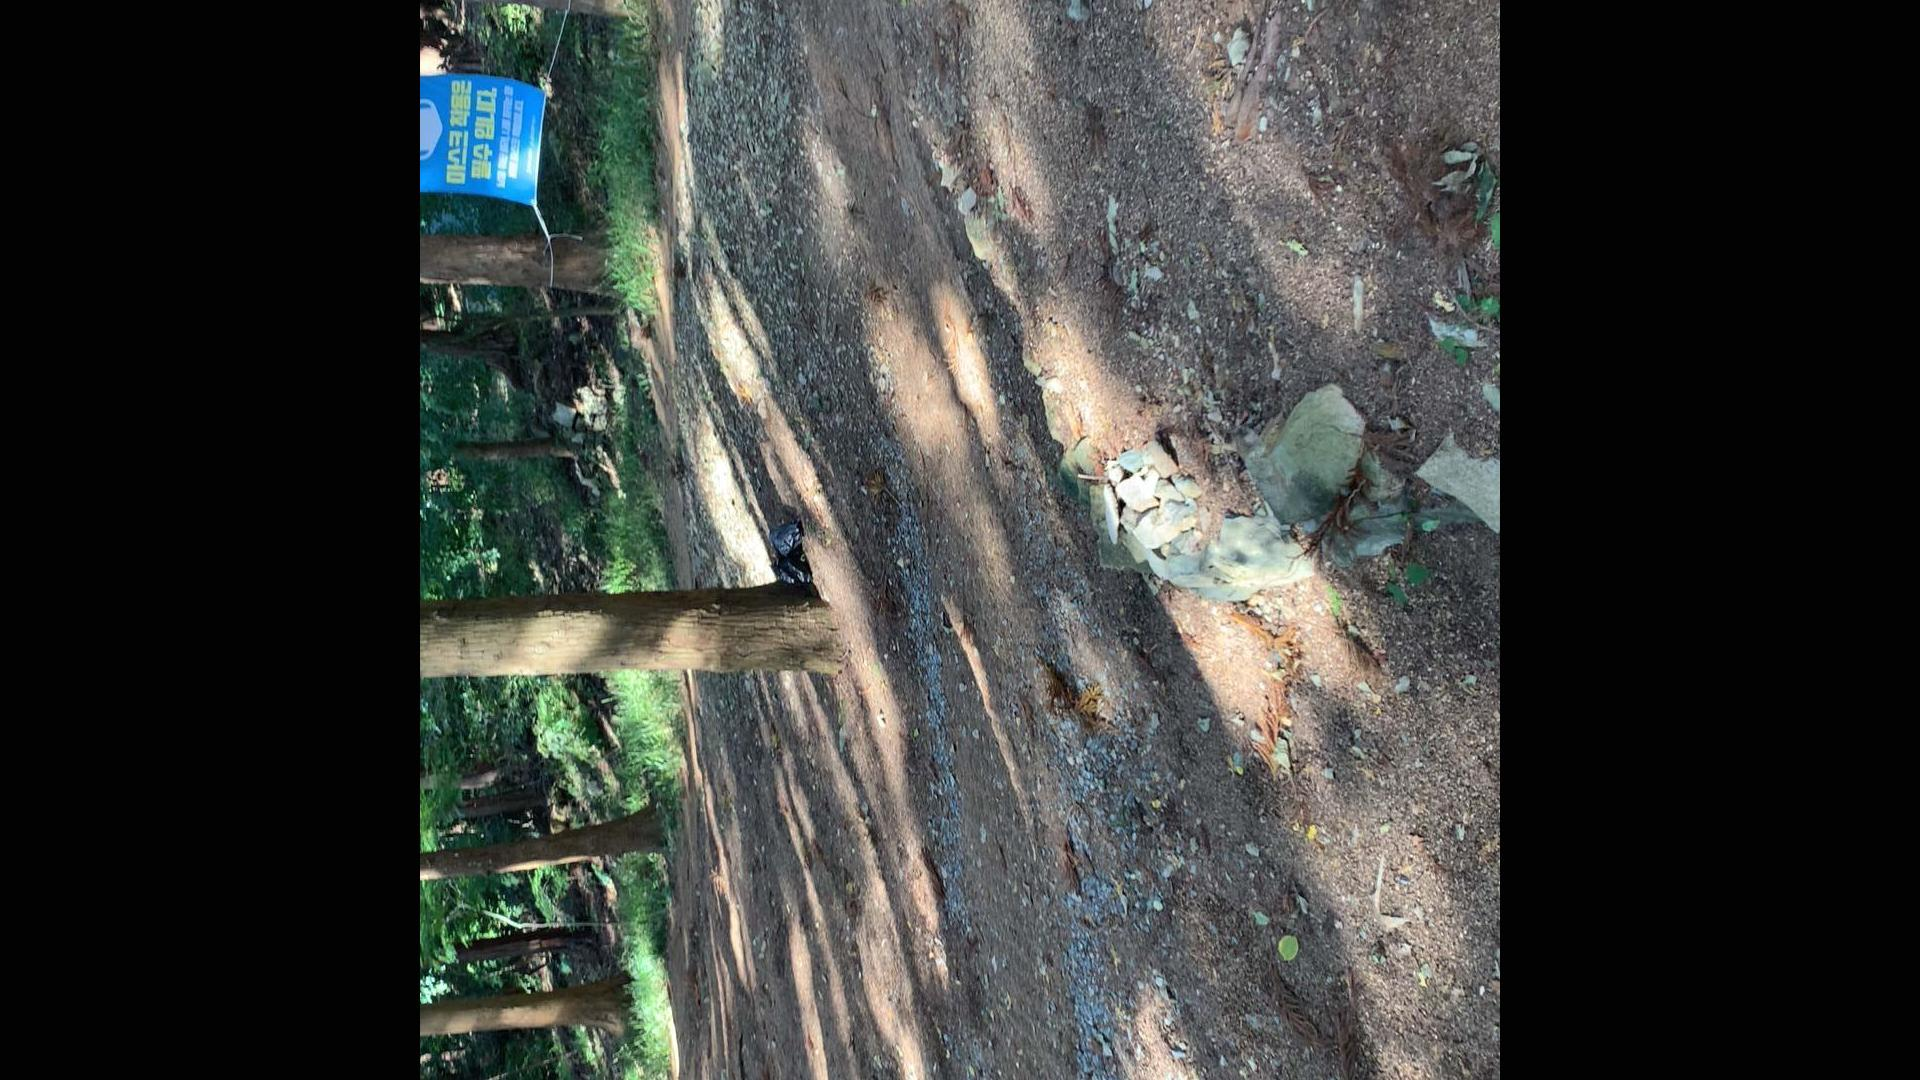black_bag: (767, 551, 811, 589), (766, 518, 802, 559)
